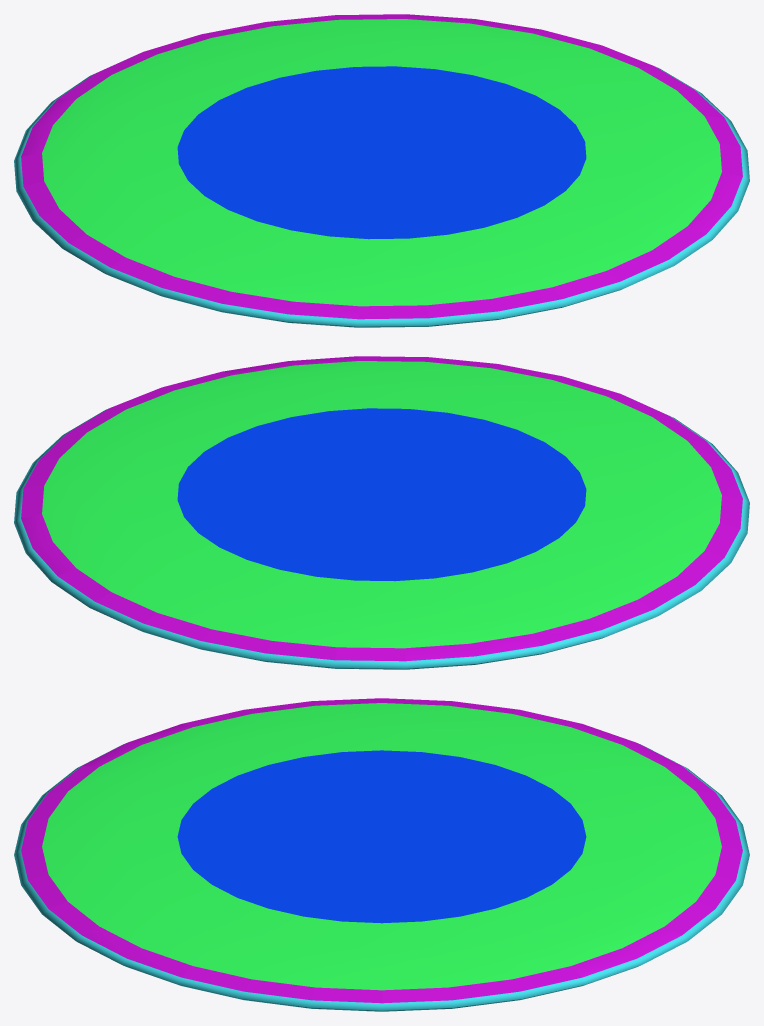
The model's file is Progeny LL Jump Pad.FBX.
3 renders of one model, top to bottom at view 1: azimuth 30°, elevation 25°; view 2: azimuth 150°, elevation 25°; view 3: azimuth 270°, elevation 25°, orthographic.
Parts seen in each view (by area): view 1: LL Porgeny Round Jump Pad; view 2: LL Porgeny Round Jump Pad; view 3: LL Porgeny Round Jump Pad.
Boxes of the visible parts, x1,y1,x2,y2 form: LL Porgeny Round Jump Pad: (14, 14, 749, 327); LL Porgeny Round Jump Pad: (14, 356, 749, 669); LL Porgeny Round Jump Pad: (14, 698, 749, 1011).
Size of the model in its own units: 17.92 by 0.6031 by 17.92.
